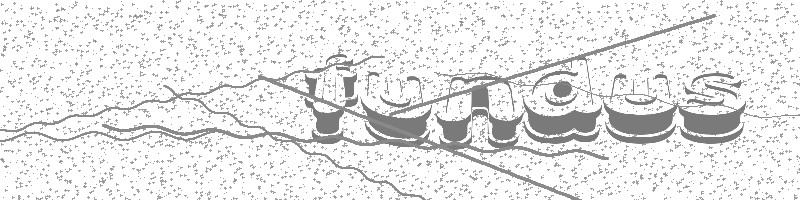d: (520, 54, 602, 144)
f: (300, 50, 357, 147)
n: (433, 72, 526, 151)
s: (677, 67, 746, 144)
u: (359, 65, 434, 146), (603, 71, 678, 145)
